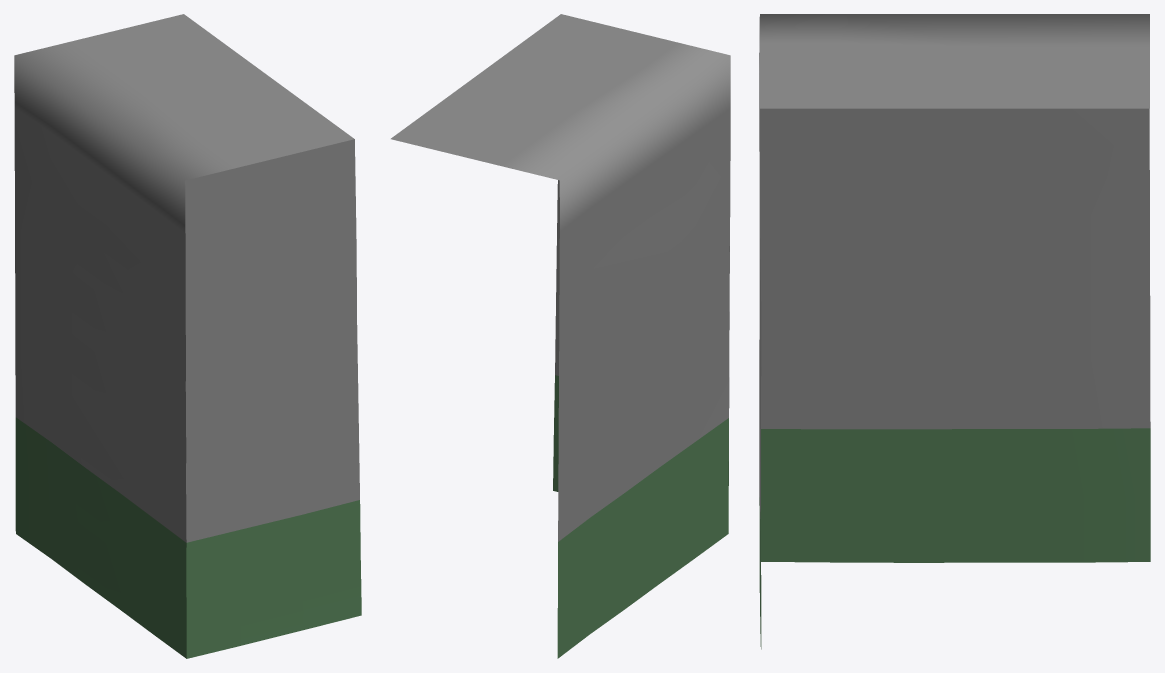
The model's file is Mapa 11.fbx.
The picture shows the model from 3 angles, left to right: view 1: azimuth 30°, elevation 25°; view 2: azimuth 150°, elevation 25°; view 3: azimuth 270°, elevation 25°; orthographic projection. The views are drawn at different scales.
Visible parts, largest first — view 1: pPlane18; view 2: pPlane18; view 3: pPlane18.
Part boxes in pixels (box(x1,y1,x2,y2)): pPlane18: box(14, 14, 361, 658); pPlane18: box(391, 14, 730, 658); pPlane18: box(759, 14, 1150, 649).
Bounding box in the file's own units: 19.32 × 49.95 × 32.37.
